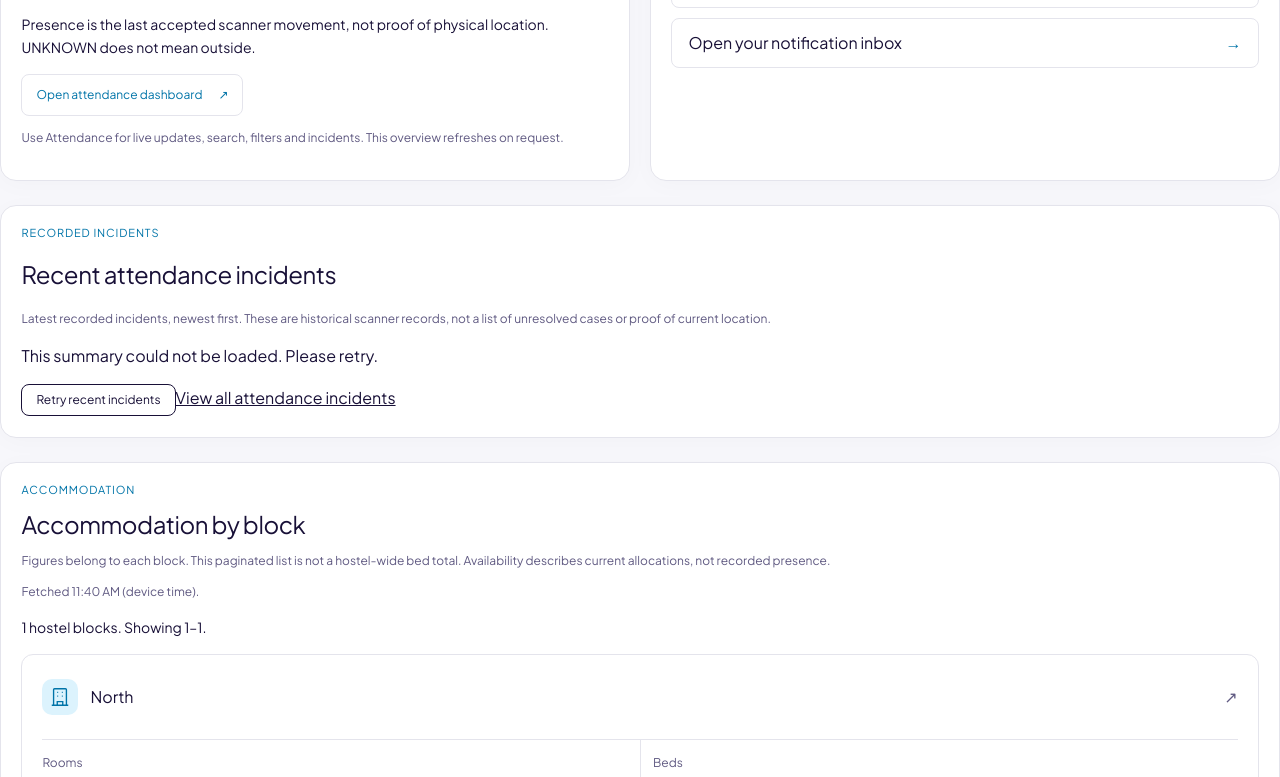
retries incidents independently without resetting the pending-work metrics
(page scrolled)
Click the button "Retry recent incidents" at (99, 400), box [22, 384, 176, 416]
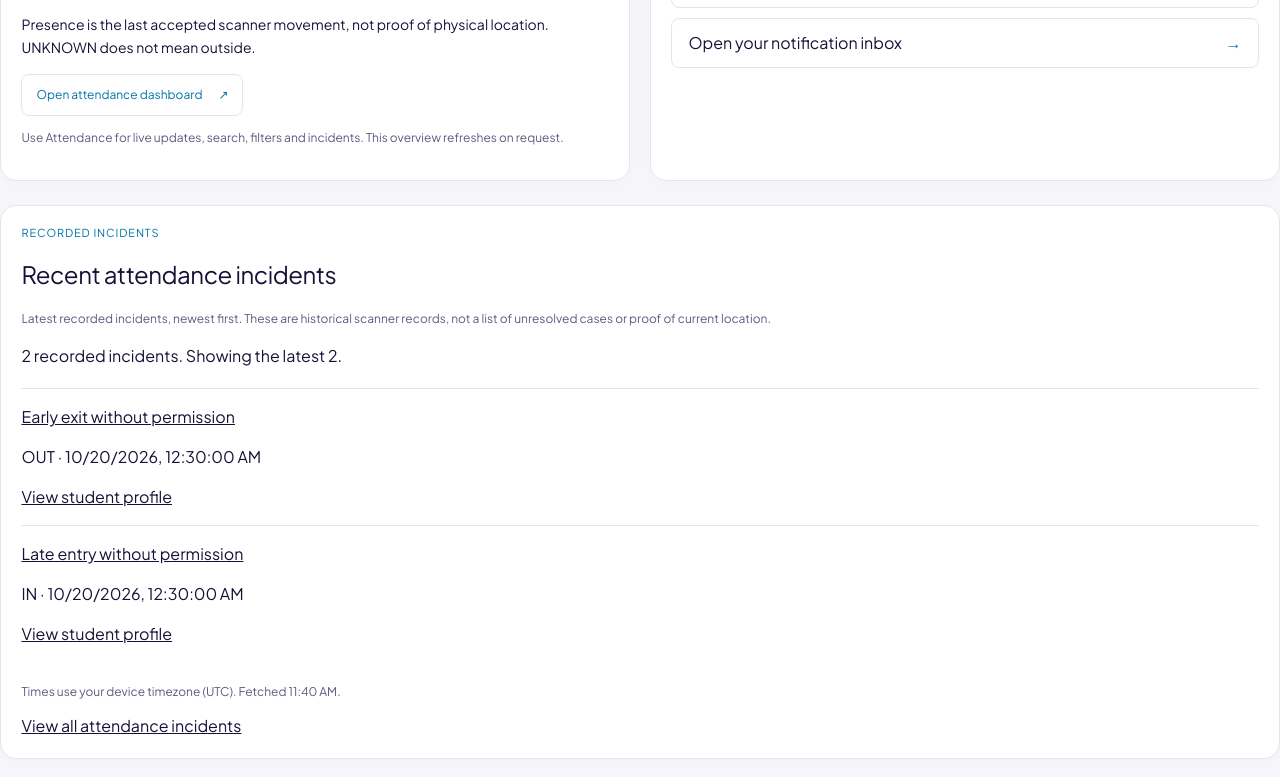
Now the link "Late entry without permission" is shown, box [22, 544, 243, 564]
